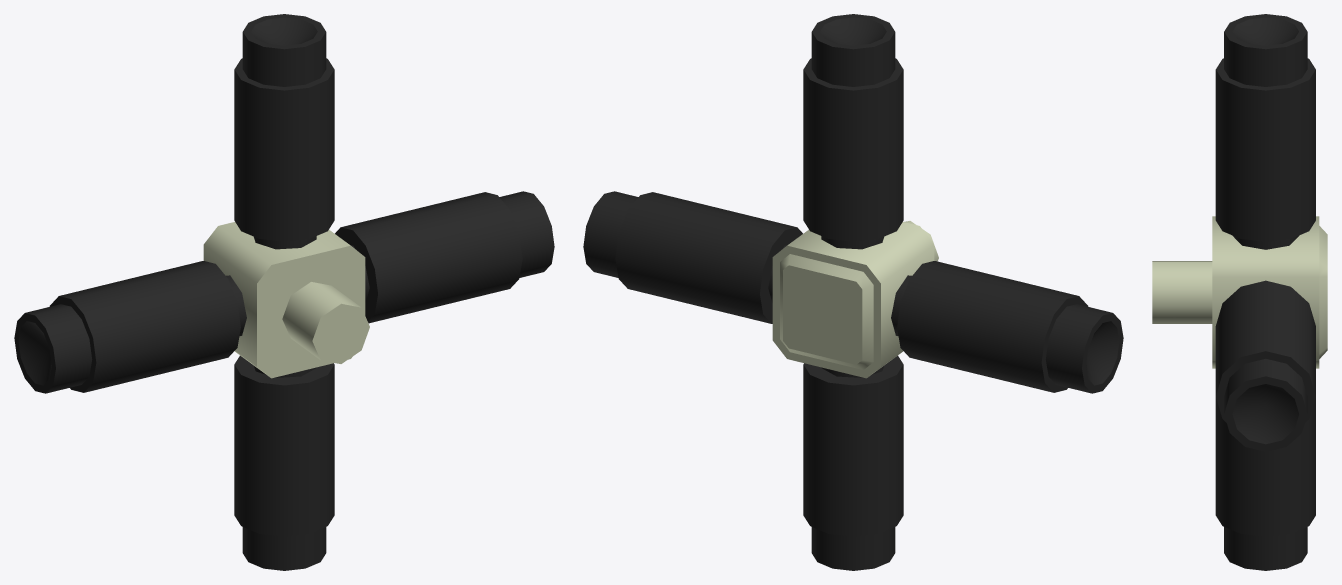
Rendered from Ara_RCS_1.obj.
The picture shows the model from 3 angles, left to right: view 1: azimuth 30°, elevation 25°; view 2: azimuth 150°, elevation 25°; view 3: azimuth 270°, elevation 25°; orthographic projection.
Visible parts, largest first — view 1: Ara_RCS_1_Ara_Engine_1_auv, Ara_RCS_1_default; view 2: Ara_RCS_1_Ara_Engine_1_auv, Ara_RCS_1_default; view 3: Ara_RCS_1_Ara_Engine_1_auv, Ara_RCS_1_default.
Boxes of the visible parts, bbox=[...] form: Ara_RCS_1_Ara_Engine_1_auv: bbox=[14, 14, 554, 570]; Ara_RCS_1_default: bbox=[203, 222, 369, 378]; Ara_RCS_1_Ara_Engine_1_auv: bbox=[583, 14, 1123, 570]; Ara_RCS_1_default: bbox=[772, 221, 938, 378]; Ara_RCS_1_Ara_Engine_1_auv: bbox=[1215, 14, 1315, 570]; Ara_RCS_1_default: bbox=[1152, 216, 1327, 368].
Size of the model in its own units: 0.4313 by 0.4313 by 0.1313.
